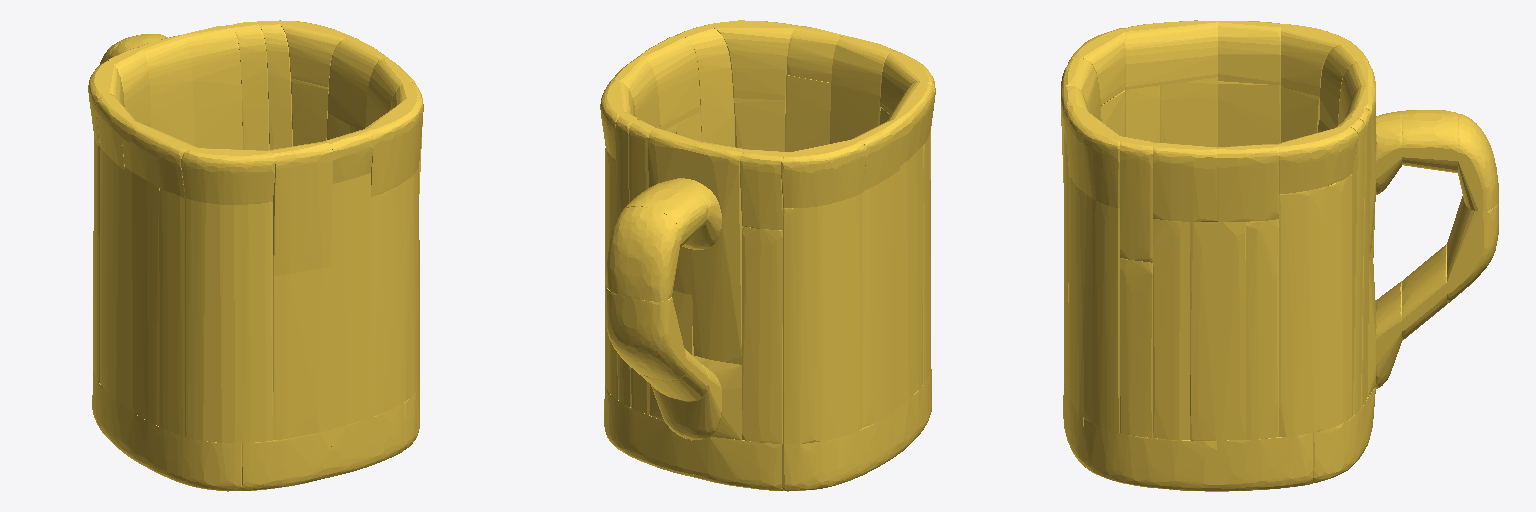
The robot description file, URDF, robot "38.urdf":
<?xml version="1.0" ?>
<robot name="38.urdf">
	<link name="baseLink">
		<inertial>
			<origin rpy="0 0 0" xyz="0 0 0"/>
				<mass value="0.1"/>
				<inertia ixx="6e-5" ixy="0" ixz="0" iyy="6e-5" iyz="0" izz="6e-5"/>
		</inertial>
		<visual>
			<origin rpy="0 0 0" xyz="0 0 0"/>
			<geometry>
				<mesh filename="36_decom_wt.obj" scale="0.81 0.81 0.86"/>
			</geometry>
			<material name="yellow">
				<color rgba="0.98 0.84 0.35 1"/>
			</material>
		</visual>
		<collision>
			<origin rpy="0 0 0" xyz="0 0 0"/>
			<geometry>
				<mesh filename="36_decom_wt.obj" scale="0.81 0.81 0.86"/>
			</geometry>
		</collision>
	</link>
</robot>

--- What the picture shows (computed from the rendered views, not written in the file) ---
Views: 3 orthographic renders of the robot side by side, from view 1: azimuth 30°, elevation 25°; view 2: azimuth 150°, elevation 25°; view 3: azimuth 270°, elevation 25°.
Robot: 38.urdf — 1 links, 0 joints (none); root link baseLink; default pose: every joint at zero.
Visible links, largest first — view 1: baseLink; view 2: baseLink; view 3: baseLink.
Link boxes in pixels (left/top/right/bottom): baseLink: left=88, top=20, right=423, bottom=491; baseLink: left=600, top=20, right=935, bottom=491; baseLink: left=1061, top=20, right=1498, bottom=491.
Bounding box of the posed robot: 0.089 × 0.1231 × 0.1067 m (x, y, z).
Meshes: 1 distinct files referenced, 1 mesh visuals loaded (1 OBJ).